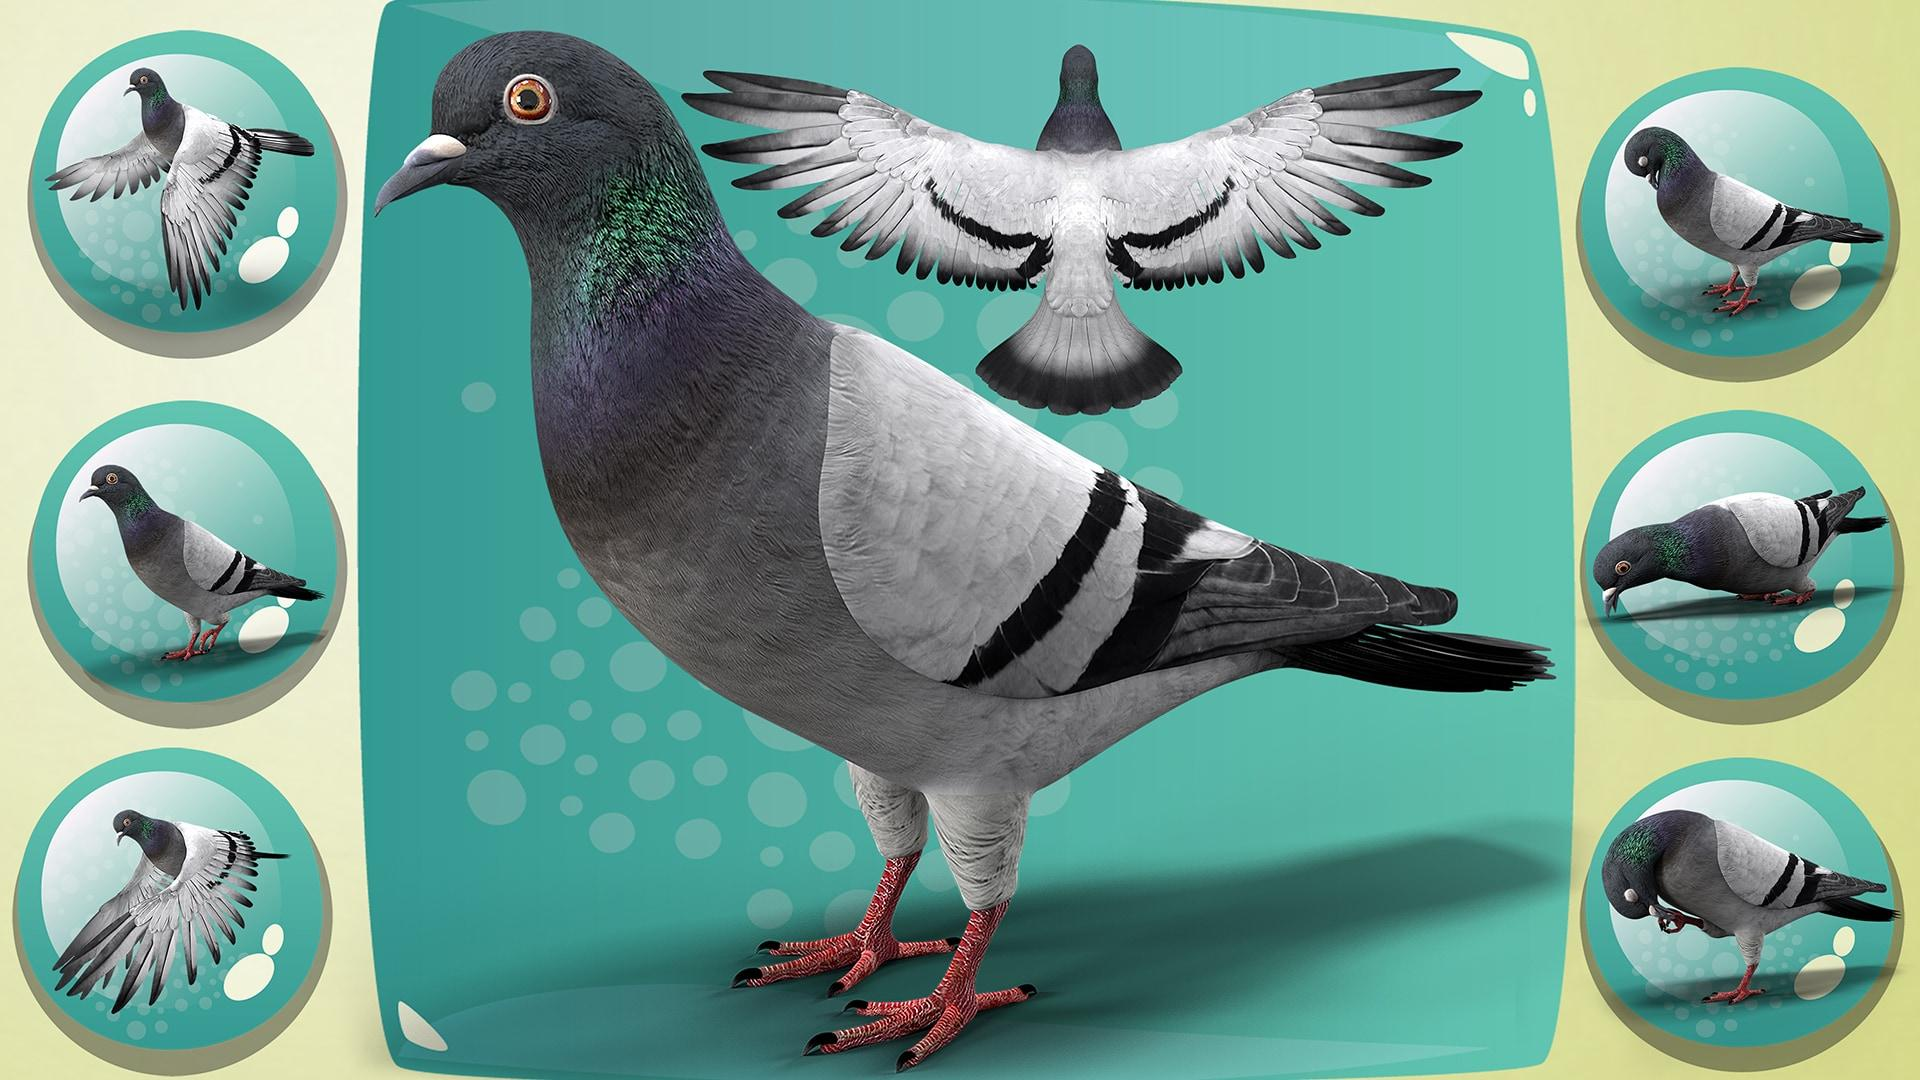Flying Rat: (406, 54, 1555, 1048), (1596, 804, 1905, 1035), (65, 425, 332, 671), (65, 59, 309, 301), (1607, 112, 1873, 314), (62, 791, 294, 1015), (1586, 471, 1880, 640)
